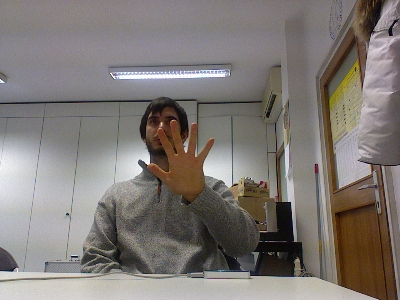布: (146, 117, 215, 197)
